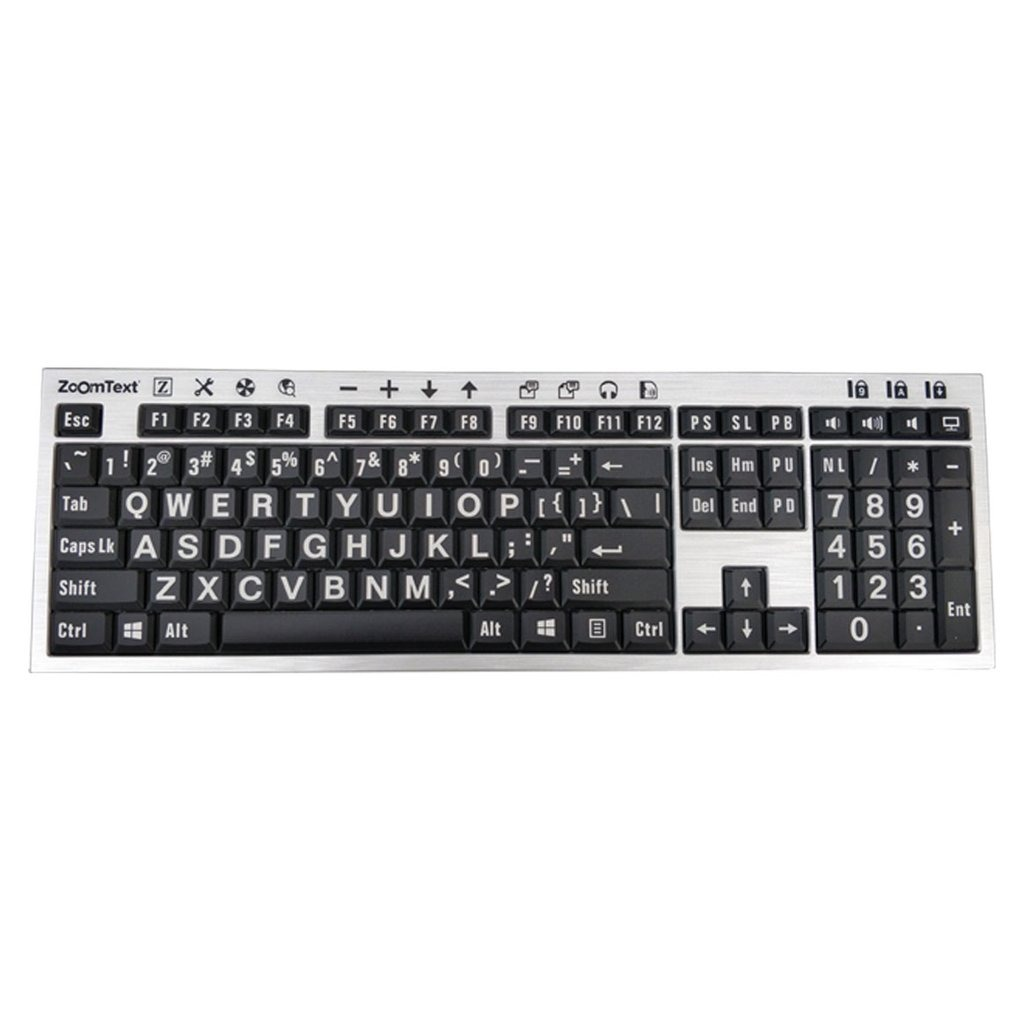keyboard: (46, 360, 986, 662)
